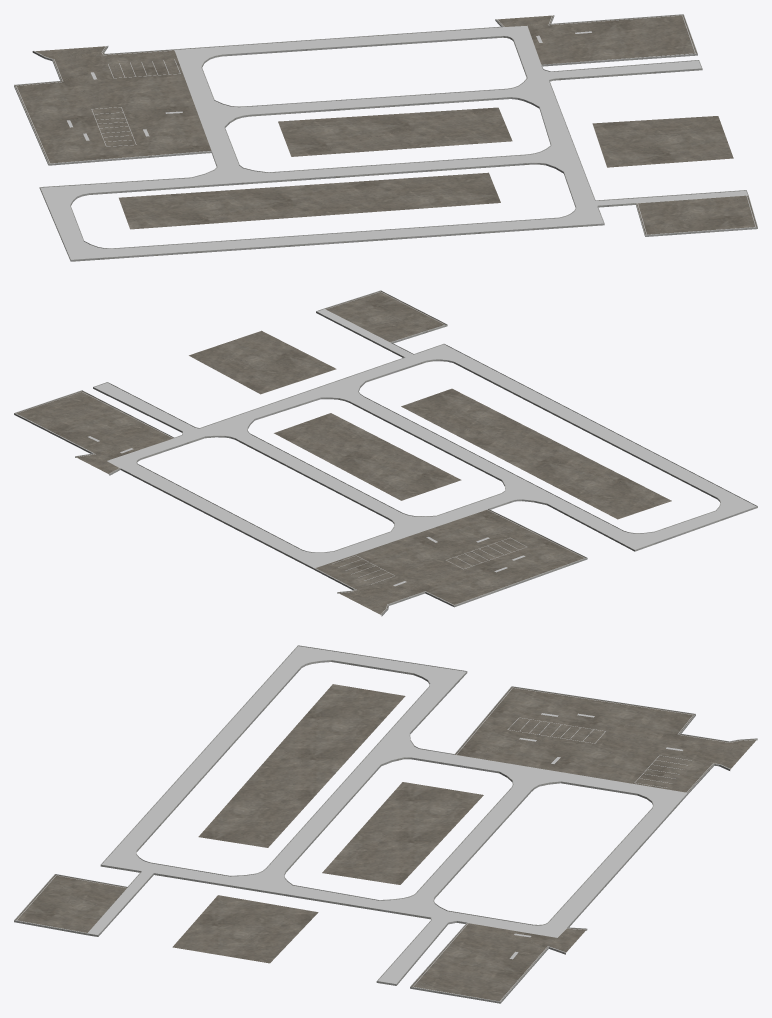
Rendered from road_p02_03.fbx.
3 views of the same model, one above another, from view 1: azimuth 30°, elevation 25°; view 2: azimuth 150°, elevation 25°; view 3: azimuth 270°, elevation 25° (orthographic). The views are drawn at different scales.
Parts seen in each view (by area): view 1: road_p02_03; view 2: road_p02_03; view 3: road_p02_03.
Boxes of the visible parts, x1,y1,x2,y2 form: road_p02_03: (14, 14, 757, 261); road_p02_03: (14, 290, 757, 616); road_p02_03: (14, 645, 757, 1003).
Bounding box in the file's own units: 29363 × 70.02 × 25882.
